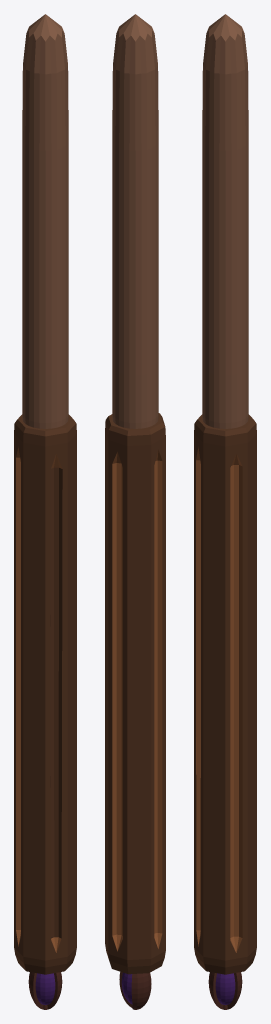
Rendered from Wand 517.glb.
3 views of the same model, side by side, from view 1: azimuth 90°, elevation 25°; view 2: azimuth 210°, elevation 25°; view 3: azimuth 270°, elevation 25° (orthographic).
Parts seen in each view (by area): view 1: GeneratedWand; view 2: GeneratedWand; view 3: GeneratedWand.
Part boxes in pixels (bbox=[...]): GeneratedWand: bbox=[14, 14, 76, 1009]; GeneratedWand: bbox=[105, 14, 165, 1009]; GeneratedWand: bbox=[194, 14, 256, 1009].
Bounding box in the file's own units: 0.0289 × 0.504 × 0.0289.
